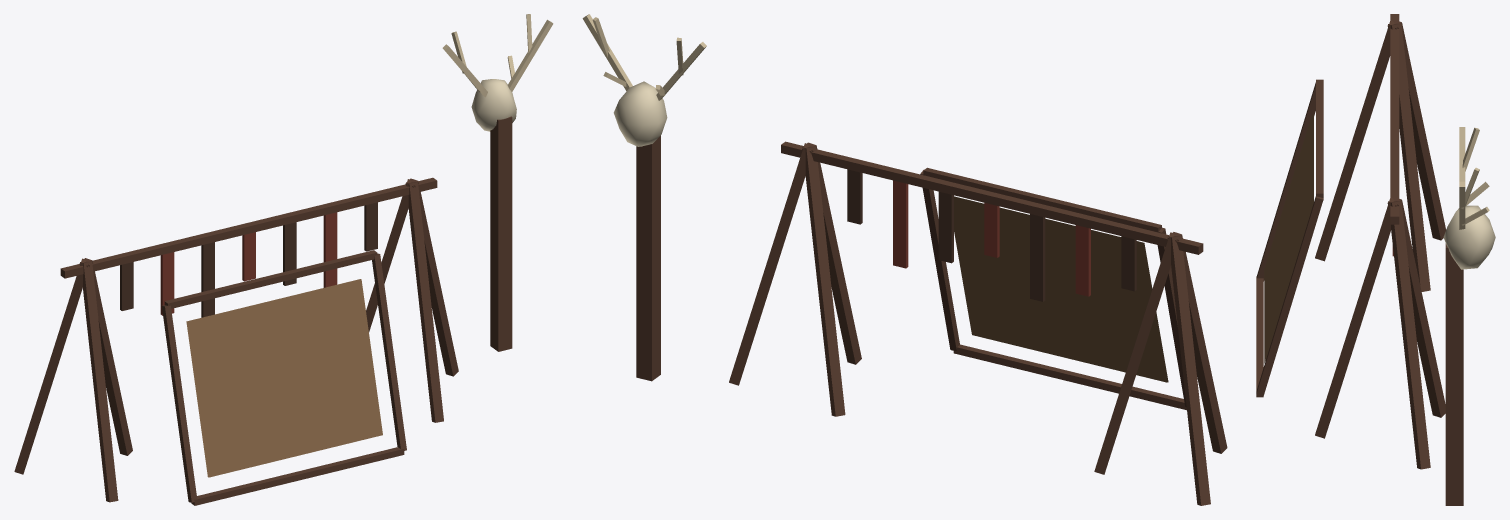
Rendered from hunters_rack.glb.
The picture shows the model from 3 angles, left to right: view 1: azimuth 30°, elevation 25°; view 2: azimuth 150°, elevation 25°; view 3: azimuth 270°, elevation 25°; orthographic projection. The views are drawn at different scales.
Visible parts, largest first — view 1: tripod-1.40; view 2: tripod-1.40; view 3: tripod-1.40.
Boxes of the visible parts, x1,y1,x2,y2 form: tripod-1.40: (14, 14, 553, 505); tripod-1.40: (582, 14, 1227, 505); tripod-1.40: (1256, 14, 1495, 505).
Size of the model in its own units: 4.71 by 2.61 by 1.6.
